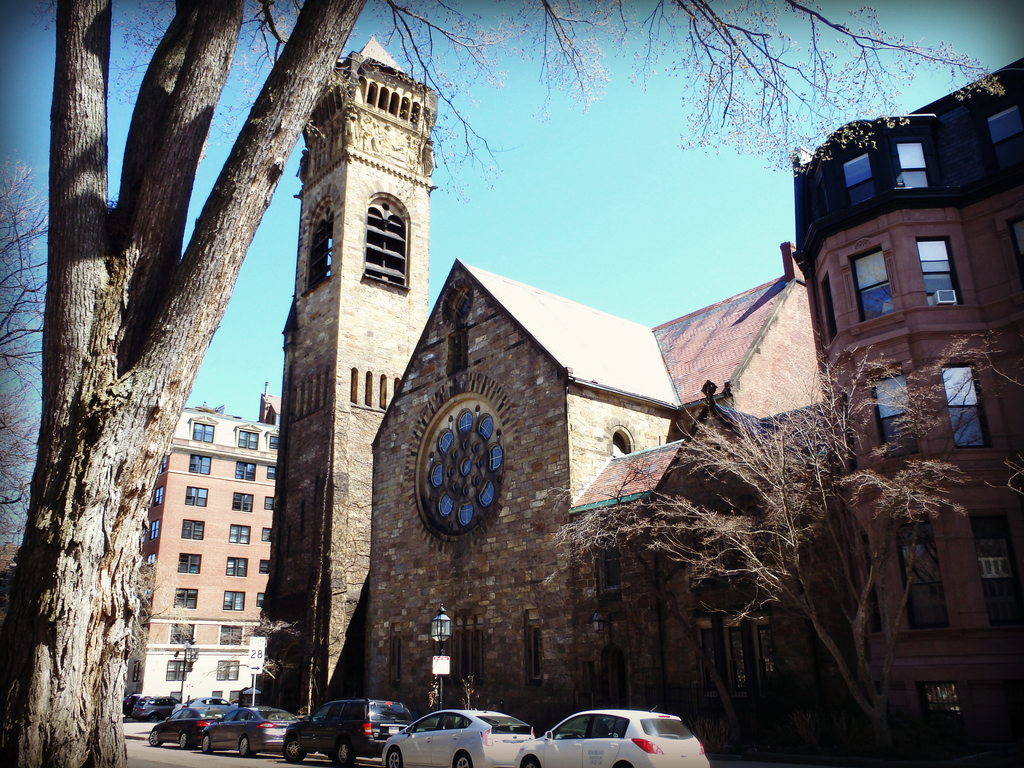Car: (511, 704, 712, 767), (382, 705, 538, 767), (279, 697, 413, 767), (200, 707, 302, 759), (147, 707, 216, 748), (131, 692, 179, 718), (171, 693, 228, 712), (124, 691, 137, 709)
